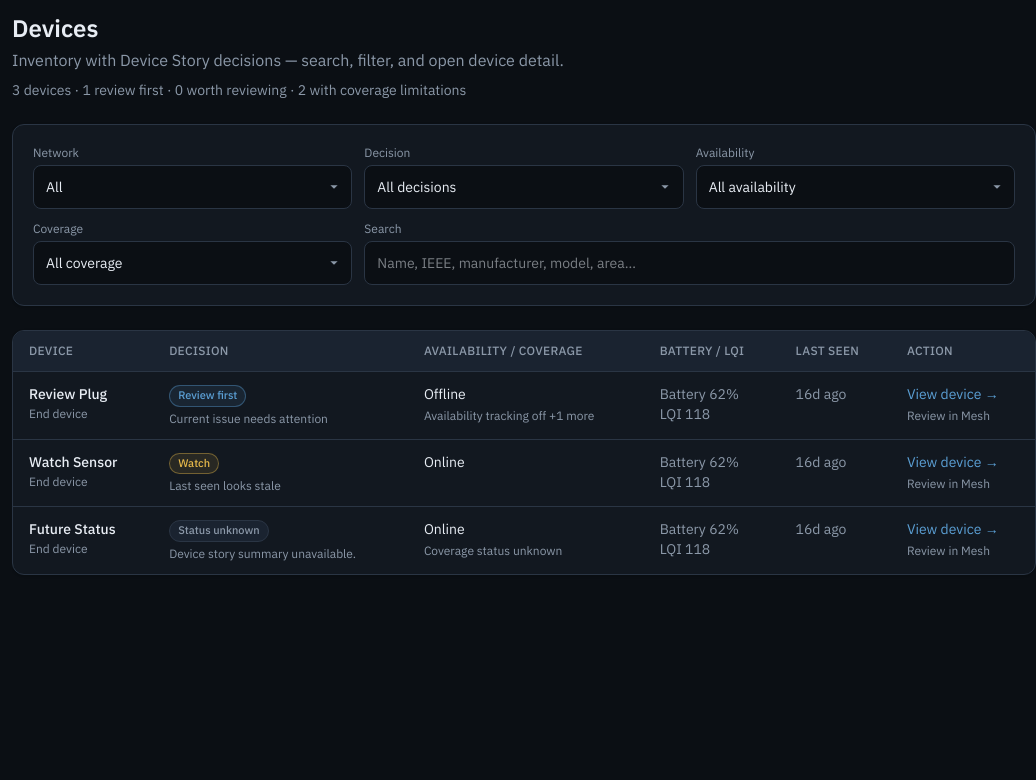
DevicesPage decision inventory › filters availability and coverage independently
This screenshot has width=1036, height=780.
Select "Offline" in the dropdown labelled "Availability" at (855, 187), box [696,165,1015,209]
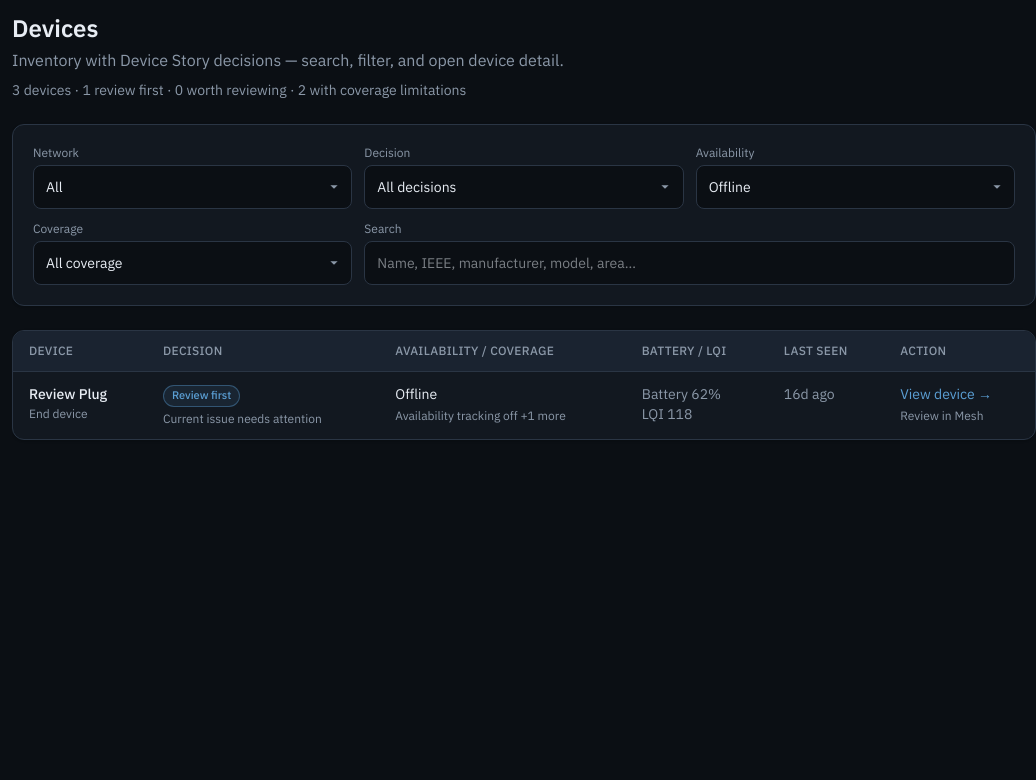
expect the text "Review Plug" is shown: met, box [29,385,107,403]
expect the text "Watch Sensor" is gone: met
Select "All availability" in the dropdown labelled "Availability" at (855, 187), box [696,165,1015,209]
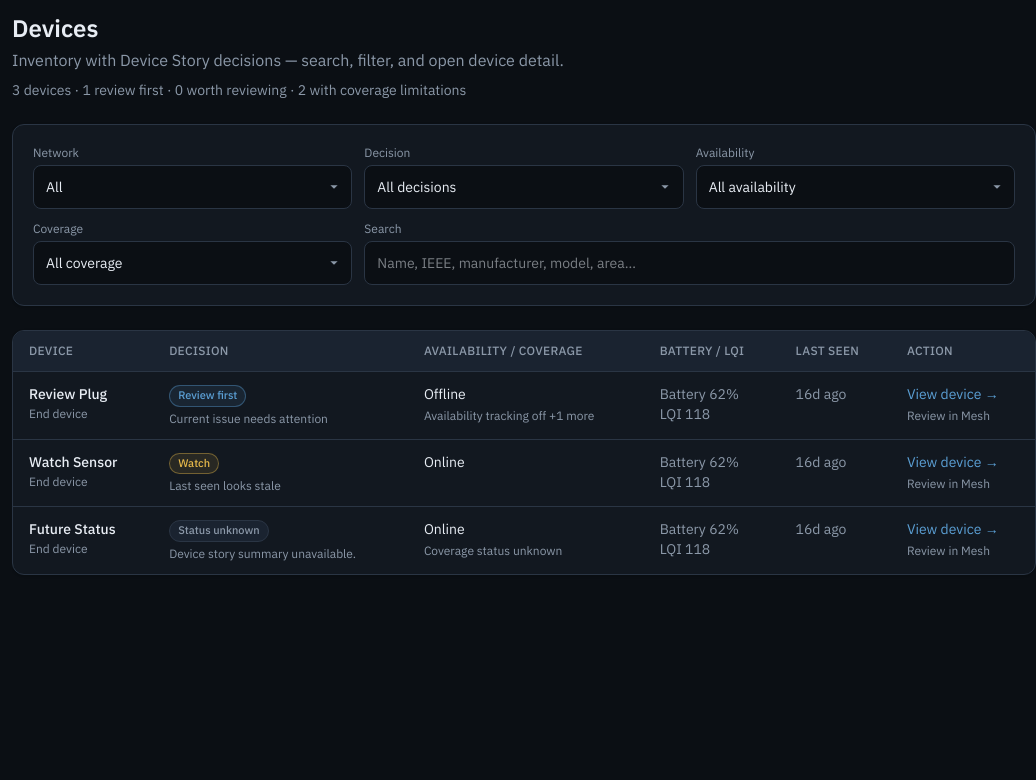
Select "Coverage limitations" in the dropdown labelled "Coverage" at (193, 263), box [33,241,352,285]
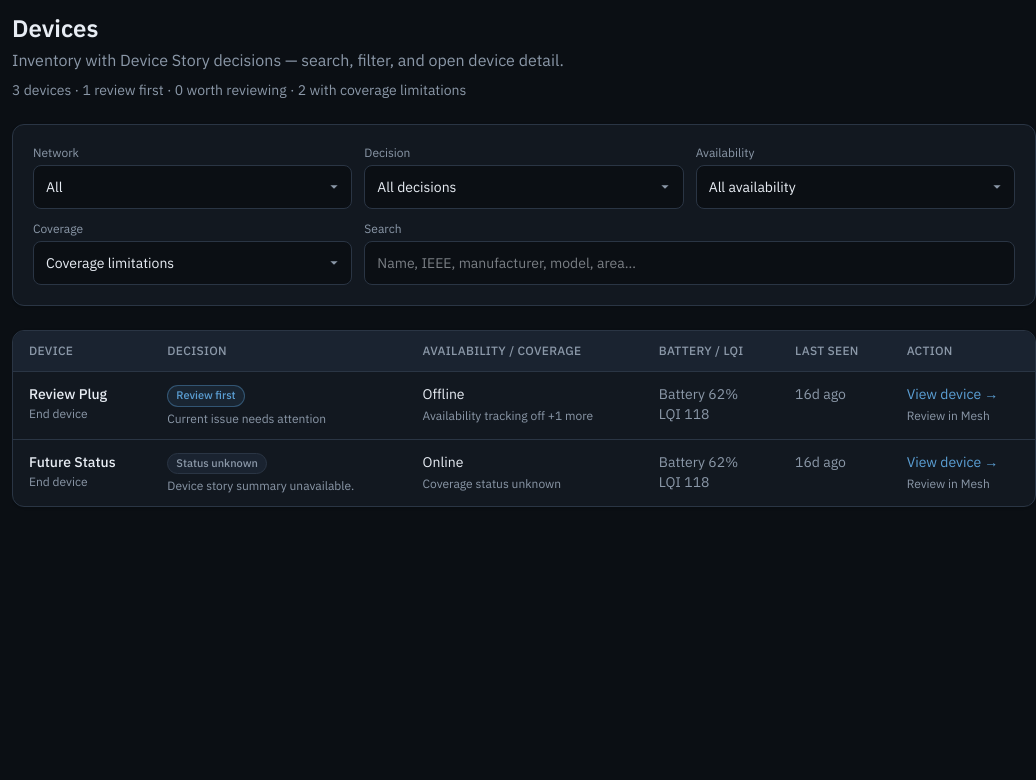
expect the text "Review Plug" is shown: met, box [29,385,107,403]
expect the text "Watch Sensor" is gone: met
